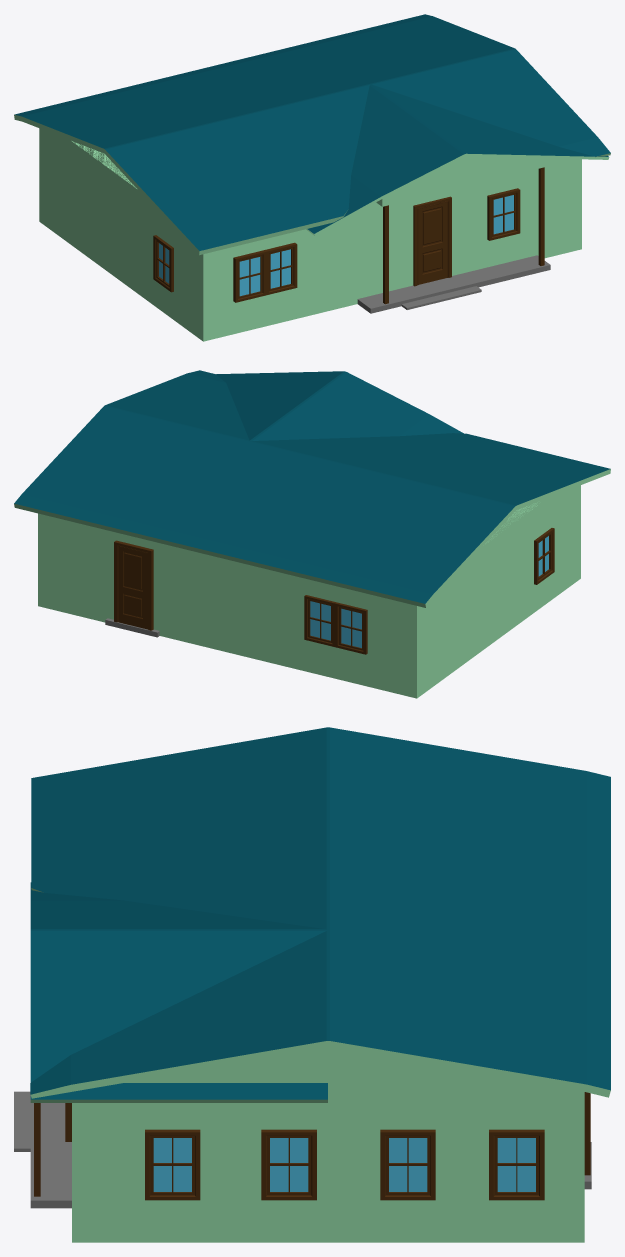
The model's file is house5.fbx.
3 renders of one model, top to bottom at view 1: azimuth 30°, elevation 25°; view 2: azimuth 150°, elevation 25°; view 3: azimuth 270°, elevation 25°, orthographic. The views are drawn at different scales.
Parts seen in each view (by area): view 1: Plane, Cube.001, Door.001, Door Frame.001, Window Frame.001, Window Frame.004, Window Frame.002, Window Frame.003, Glass?.001, Cube.004, Glass?.003, Glass?.004 (+2 smaller); view 2: Plane, Door, Door Frame, Window Frame.007, Window Frame.006, Window Frame.003, Glass?.006, Glass?.005; view 3: Plane, Cube.001, Window Frame.008, Window Frame.009, Window Frame.010, Window Frame.005, Glass?.009, Glass?.010, Glass?.007, Glass?.008, Cube.002.
Boxes of the visible parts, x1=… form: Plane: x1=14, y1=14, x2=610, y2=341; Cube.001: x1=357, y1=255, x2=550, y2=313; Door.001: x1=418, y1=202, x2=447, y2=284; Door Frame.001: x1=413, y1=196, x2=451, y2=286; Window Frame.001: x1=233, y1=250, x2=266, y2=302; Window Frame.004: x1=487, y1=188, x2=520, y2=240; Window Frame.002: x1=264, y1=242, x2=297, y2=295; Window Frame.003: x1=153, y1=235, x2=173, y2=292; Glass?.001: x1=239, y1=257, x2=260, y2=296; Cube.004: x1=538, y1=167, x2=544, y2=265; Glass?.003: x1=270, y1=249, x2=290, y2=288; Glass?.004: x1=493, y1=195, x2=513, y2=234; Plane: x1=14, y1=370, x2=610, y2=698; Door: x1=118, y1=546, x2=147, y2=629; Door Frame: x1=114, y1=540, x2=153, y2=630; Window Frame.007: x1=335, y1=602, x2=367, y2=654; Window Frame.006: x1=304, y1=595, x2=336, y2=646; Window Frame.003: x1=534, y1=528, x2=554, y2=584; Glass?.006: x1=341, y1=608, x2=361, y2=647; Glass?.005: x1=310, y1=601, x2=330, y2=640; Plane: x1=30, y1=727, x2=610, y2=1242; Cube.001: x1=30, y1=1103, x2=71, y2=1208; Window Frame.008: x1=261, y1=1129, x2=316, y2=1200; Window Frame.009: x1=380, y1=1129, x2=435, y2=1200; Window Frame.010: x1=489, y1=1129, x2=544, y2=1200; Window Frame.005: x1=145, y1=1129, x2=200, y2=1200; Glass?.009: x1=389, y1=1138, x2=427, y2=1191; Glass?.010: x1=497, y1=1138, x2=535, y2=1191; Glass?.007: x1=153, y1=1138, x2=191, y2=1191; Glass?.008: x1=270, y1=1138, x2=308, y2=1191; Cube.002: x1=14, y1=1091, x2=30, y2=1151.
Bounding box in the file's own units: 869 × 276 × 699.
